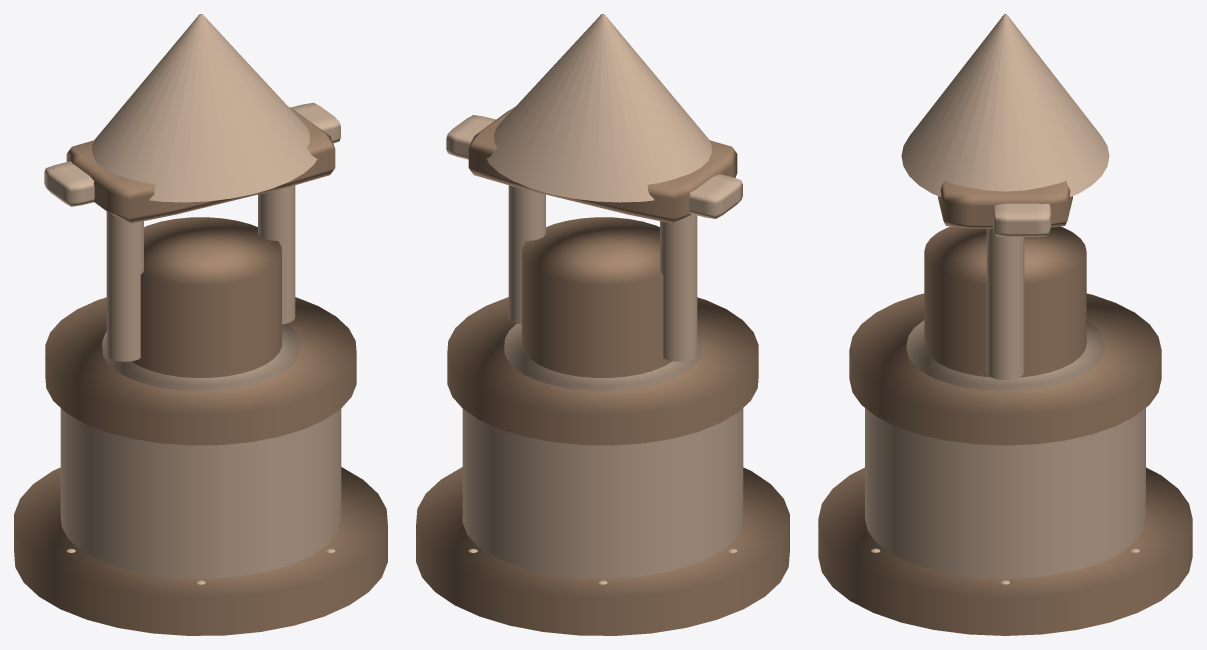
The model's file is temple_l3.glb.
The picture shows the model from 3 angles, left to right: view 1: azimuth 30°, elevation 25°; view 2: azimuth 150°, elevation 25°; view 3: azimuth 270°, elevation 25°; orthographic projection.
Visible parts, largest first — view 1: base, footing, roof, baseCollar, shaft, pillar (×2), lintel, lowerTrim, PillarCapital-1, PillarCapital1; view 2: base, footing, roof, baseCollar, shaft, pillar (×2), lintel, lowerTrim, PillarCapital-1, PillarCapital1; view 3: base, footing, baseCollar, roof, shaft, pillar, lowerTrim, lintel, PillarCapital1.
Part boxes in pixels (<box>): base: <box>60,408,341,578</box>; footing: <box>14,467,387,635</box>; roof: <box>92,14,317,202</box>; baseCollar: <box>45,297,356,445</box>; shaft: <box>132,217,281,377</box>; pillar (×2): <box>106,185,295,361</box>; lintel: <box>66,107,335,223</box>; lowerTrim: <box>102,323,299,391</box>; PillarCapital-1: <box>44,161,94,206</box>; PillarCapital1: <box>290,102,340,143</box>; base: <box>462,408,743,578</box>; footing: <box>416,467,789,635</box>; roof: <box>486,14,711,202</box>; baseCollar: <box>447,297,758,445</box>; shaft: <box>522,217,671,377</box>; pillar (×2): <box>508,185,697,361</box>; lintel: <box>468,107,737,223</box>; lowerTrim: <box>504,323,701,391</box>; PillarCapital-1: <box>689,174,742,218</box>; PillarCapital1: <box>446,115,495,159</box>; base: <box>865,408,1145,578</box>; footing: <box>818,467,1192,635</box>; baseCollar: <box>849,293,1161,445</box>; roof: <box>901,14,1109,196</box>; shaft: <box>924,226,1086,377</box>; pillar: <box>986,228,1024,380</box>; lowerTrim: <box>906,320,1104,391</box>; lintel: <box>938,180,1072,228</box>; PillarCapital1: <box>993,203,1051,236</box>.
Size of the model in its own units: 1.8 by 2.88 by 1.8.
